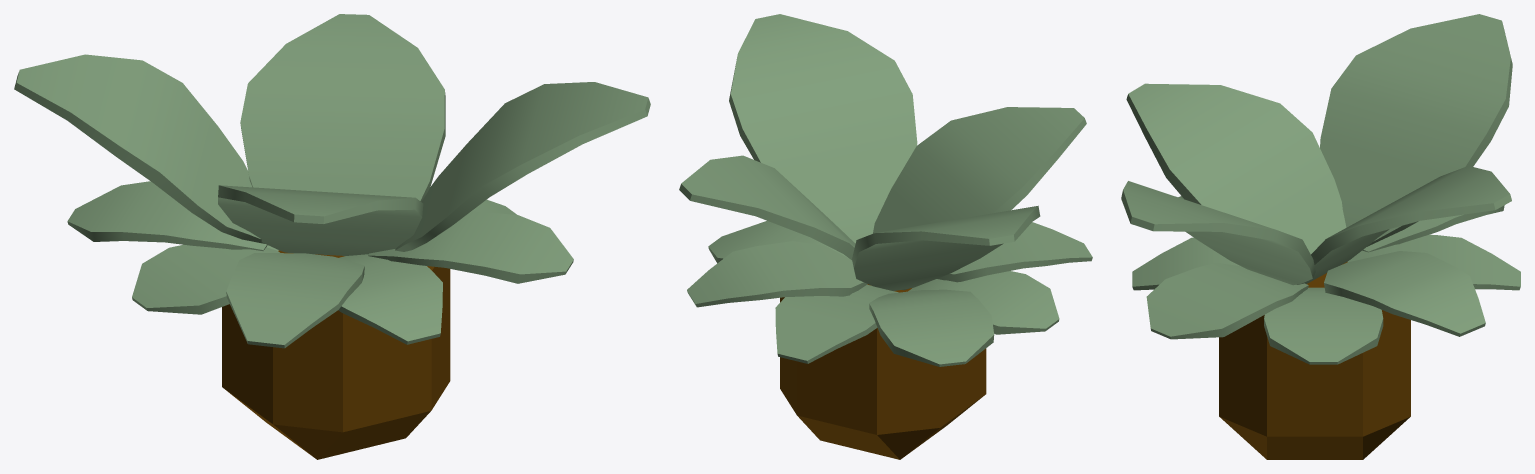
Rendered from plant.fbx.
3 renders of one model, left to right at view 1: azimuth 30°, elevation 25°; view 2: azimuth 150°, elevation 25°; view 3: azimuth 270°, elevation 25°, orthographic. The views are drawn at different scales.
Visible parts, largest first — view 1: pasted__group5_pasted__pasted__group3_pasted__pasted__pasted, polySurface1; view 2: pasted__group5_pasted__pasted__group3_pasted__pasted__pasted, polySurface1; view 3: pasted__group5_pasted__pasted__group3_pasted__pasted__pasted, polySurface1.
Boxes of the visible parts, bbox=[...] form: pasted__group5_pasted__pasted__group3_pasted__pasted__pasted: bbox=[14, 14, 650, 348]; polySurface1: bbox=[222, 250, 450, 459]; pasted__group5_pasted__pasted__group3_pasted__pasted__pasted: bbox=[679, 14, 1092, 366]; polySurface1: bbox=[780, 284, 986, 459]; pasted__group5_pasted__pasted__group3_pasted__pasted__pasted: bbox=[1121, 14, 1520, 364]; polySurface1: bbox=[1219, 261, 1410, 459].
Size of the model in its own units: 8.12 by 5.72 by 6.48.
